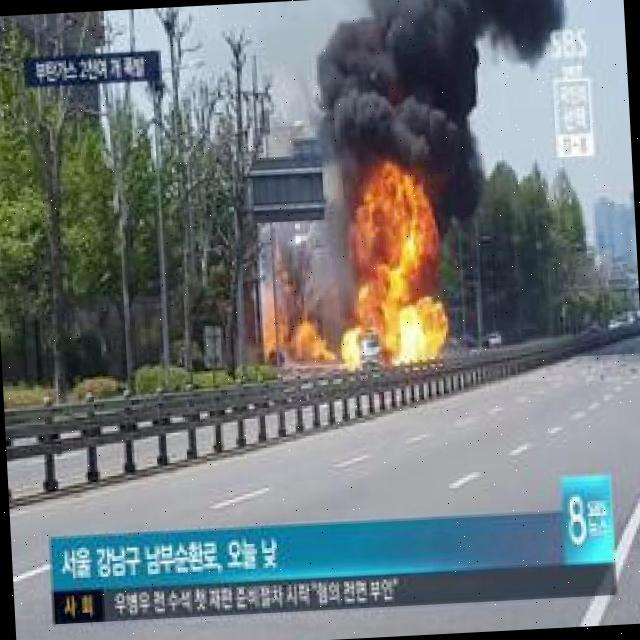fire: (352, 172, 448, 364), (295, 322, 328, 366), (340, 336, 360, 369)
